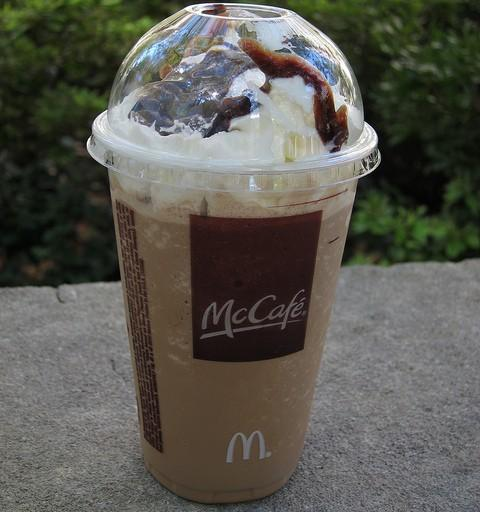mcdonalds: (217, 426, 273, 464)
